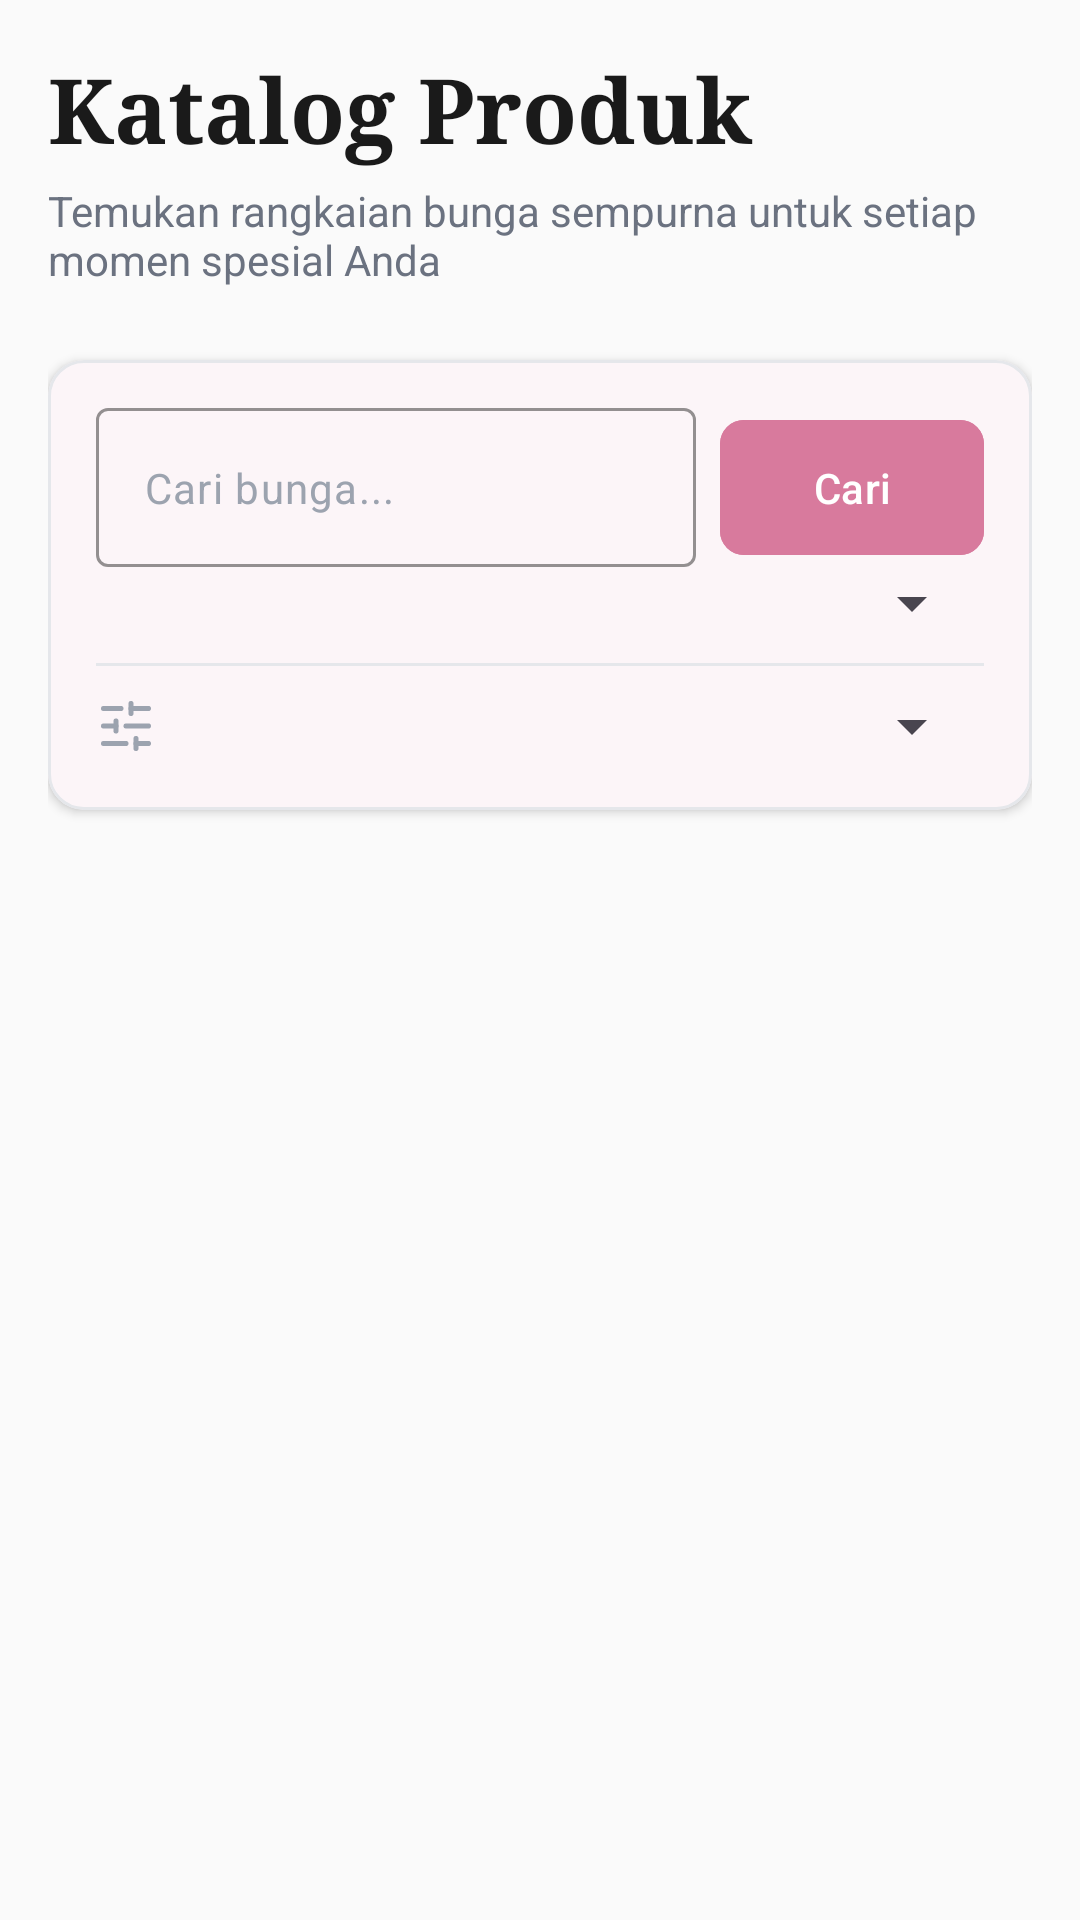

Where icons sit on this 1080x1920 app screen, as (x1, y1, x2, y2):
sliders: (101, 701, 151, 751)
